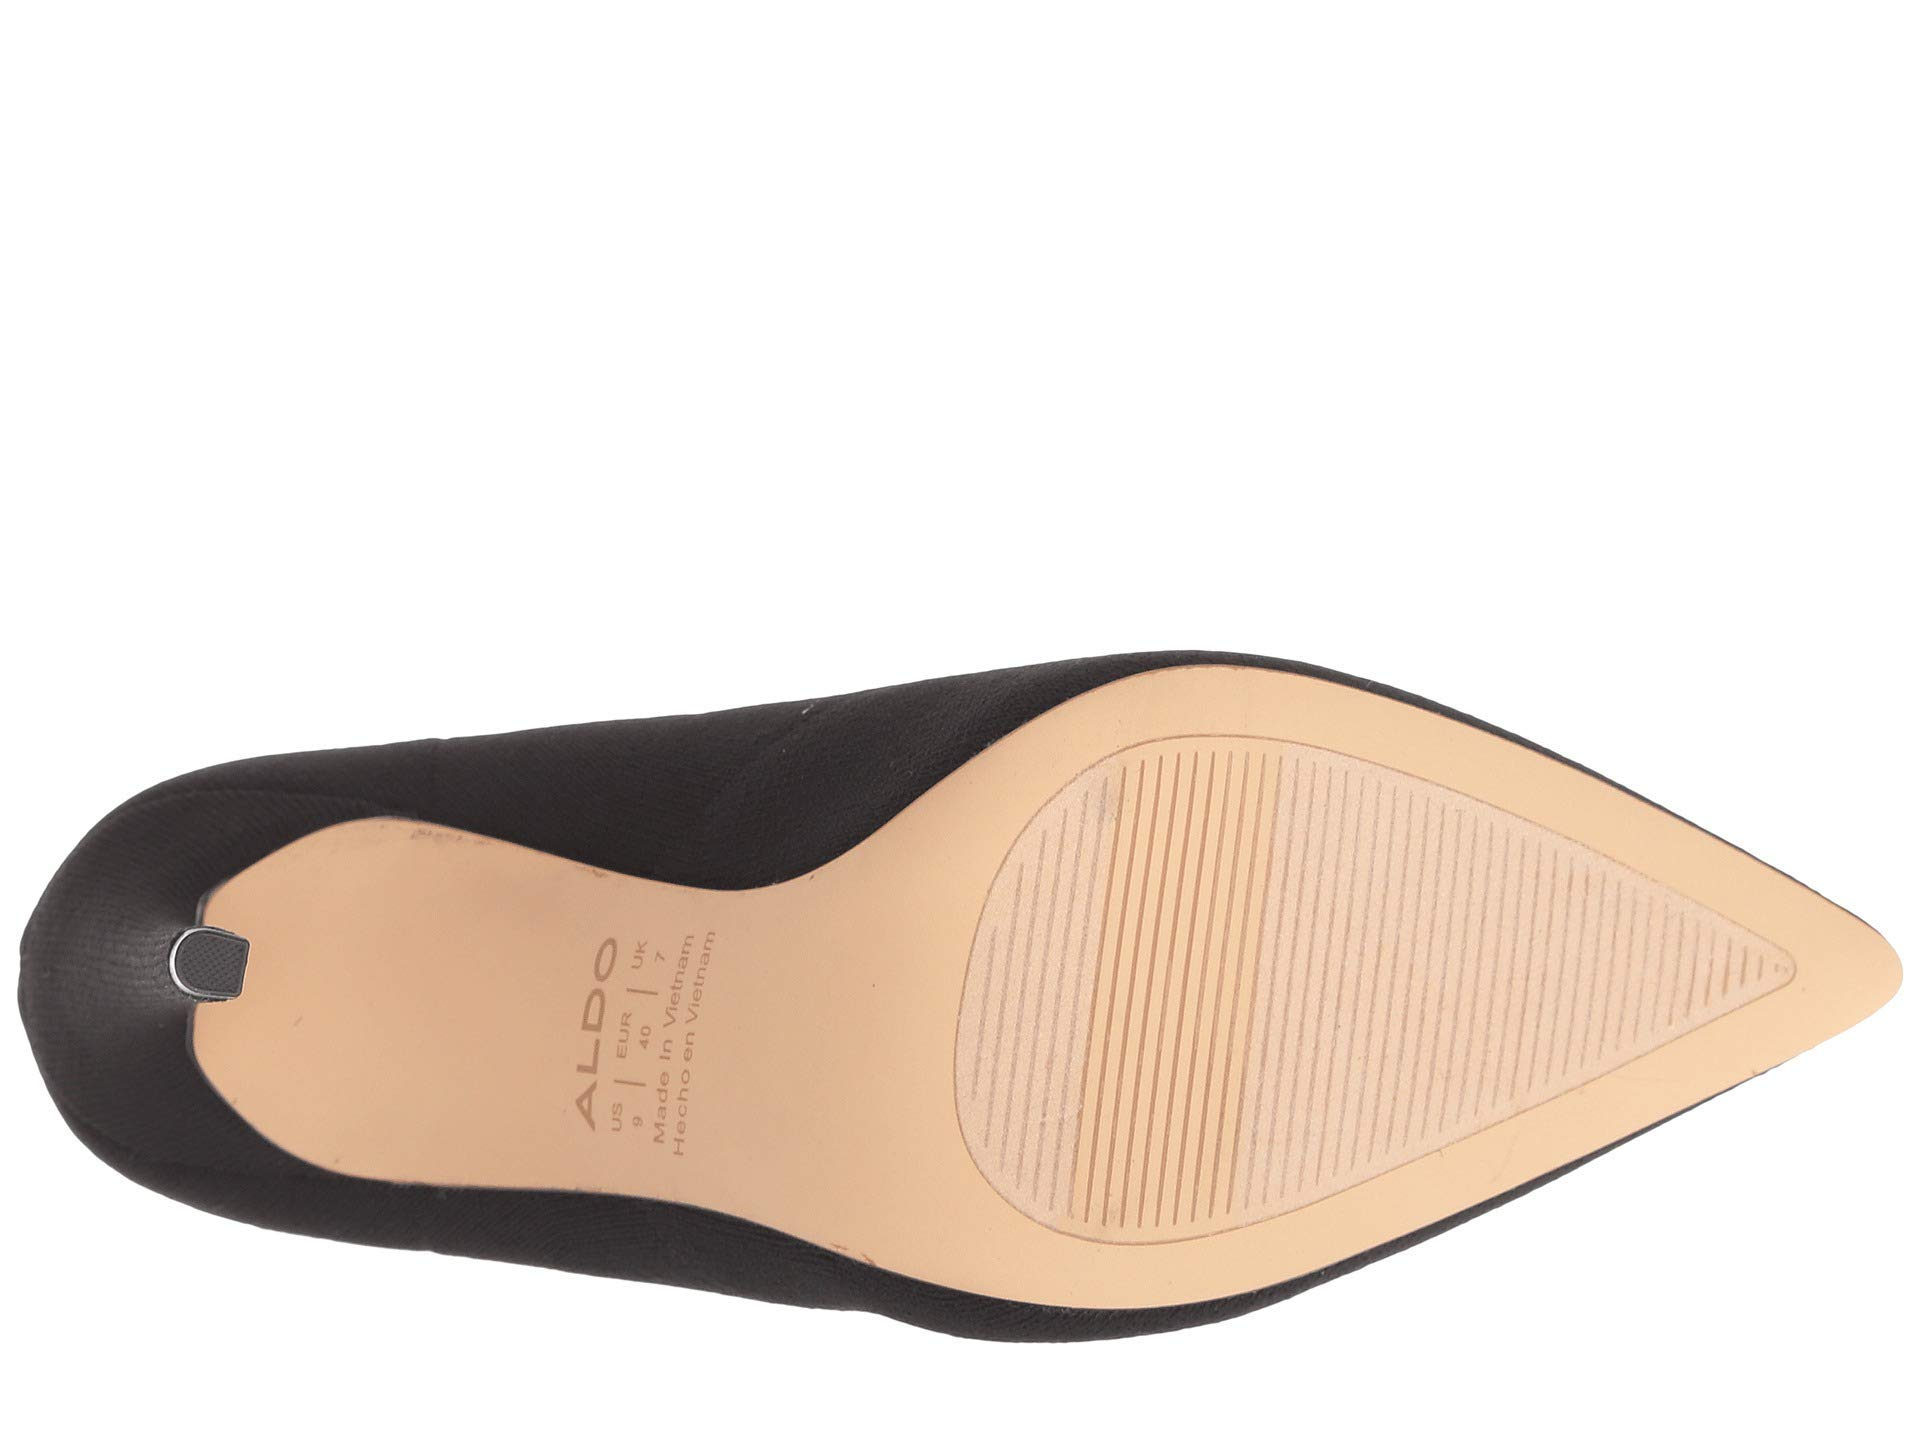line: (1149, 861, 1417, 1154)
